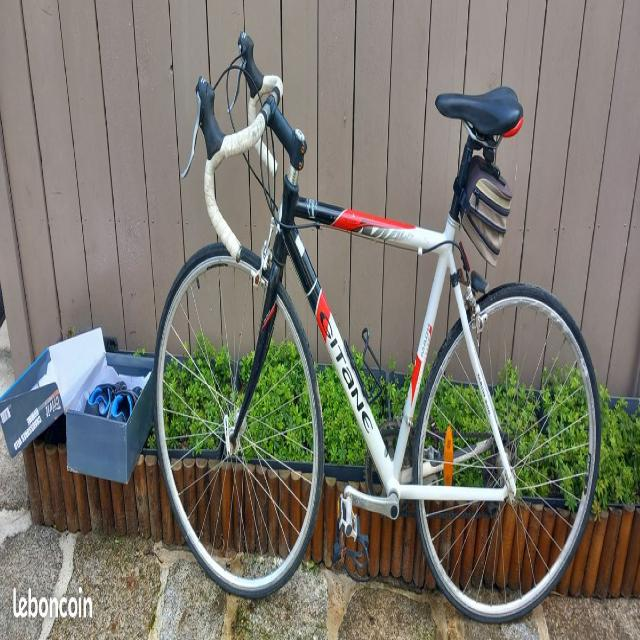Bike: (152, 29, 601, 625)
